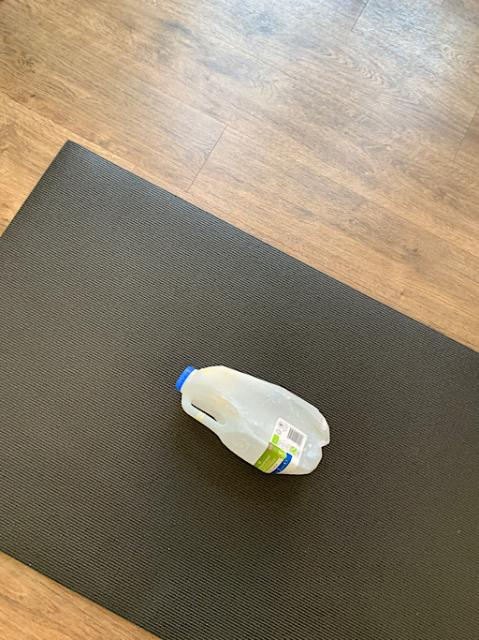plastic: (175, 365, 329, 472)
